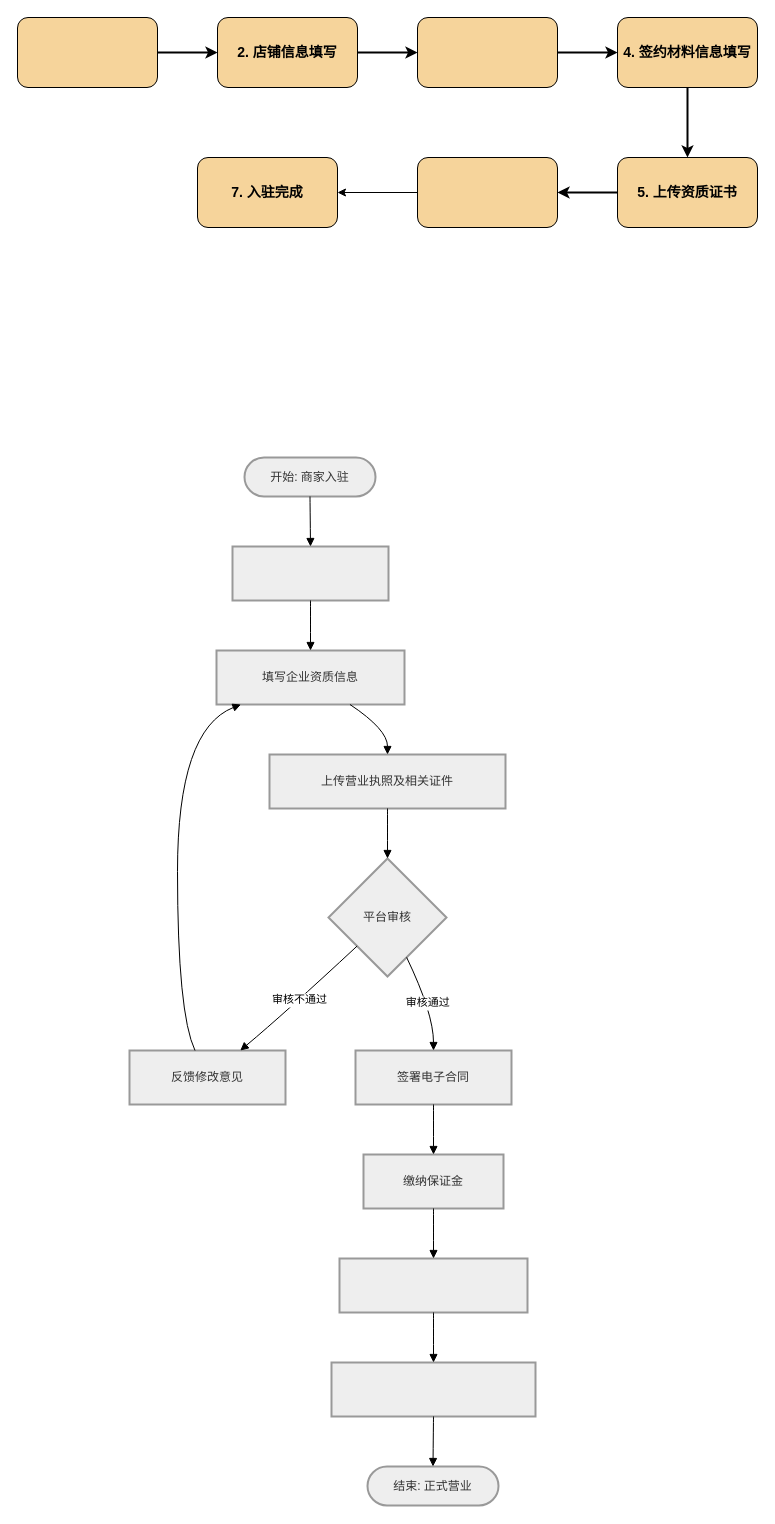
Image size: 775x1524. Some labels were removed from this diagram. Here are the shapes that lost their labels. From the top down, the centre of each, then its label:
At point (87, 52): "1. 注册账号".
At point (487, 52): "3. 商家类型选择".
At point (487, 192): "6. 平台审核".
At point (310, 573): "提交入驻申请".
At point (433, 1285): "开通商家后台权限".
At point (433, 1389): "店铺装修与商品上架".
